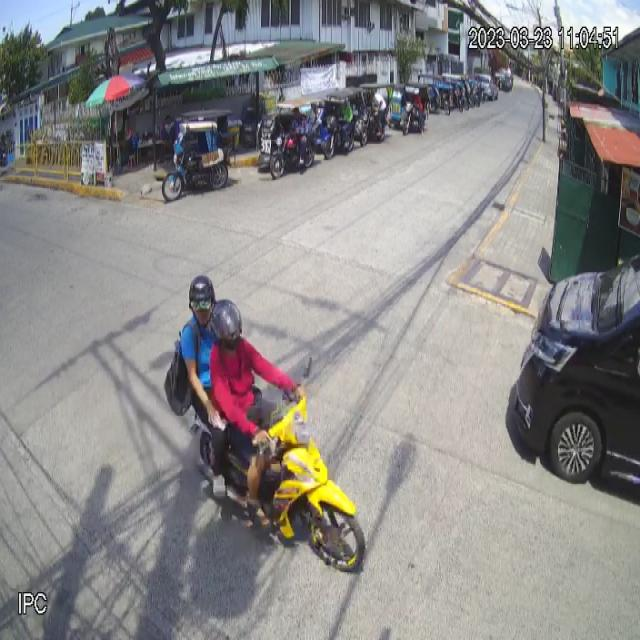Motorcycle: (256, 351, 366, 582)
Tricycle: (161, 108, 235, 204)
